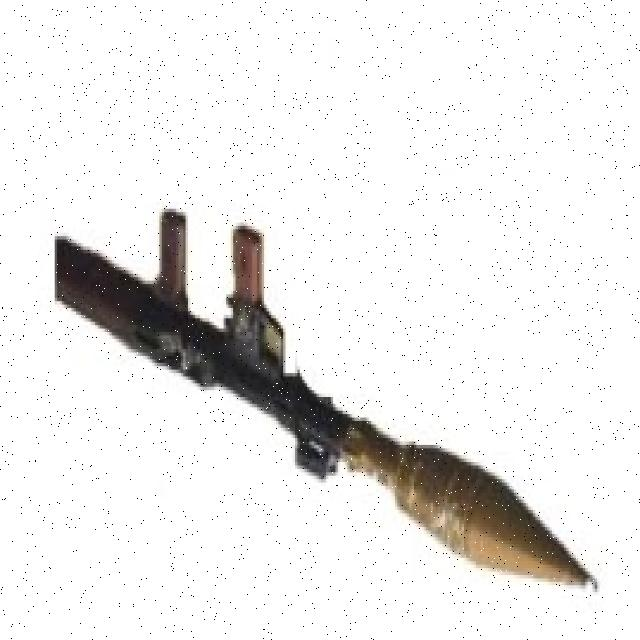bazooka: (32, 194, 606, 598)
